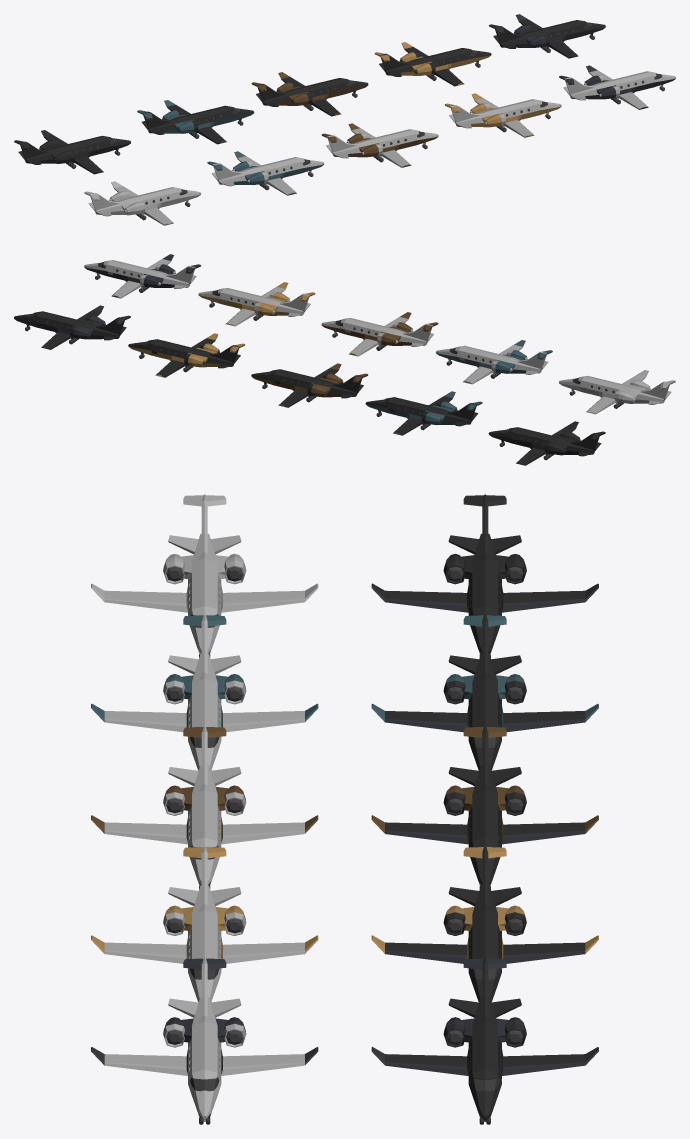
The model's file is LearJet 89.fbx.
The picture shows the model from 3 angles, top to bottom: view 1: azimuth 30°, elevation 25°; view 2: azimuth 150°, elevation 25°; view 3: azimuth 270°, elevation 25°; orthographic projection. The views are drawn at different scales.
Visible parts, largest first — view 1: LearJet Black, LearJet Brown, LearJet V Blue, LearJet Yellow, LearJet V, LearJet V Brown, LearJet, LearJet V Yellow, LearJet Blue, LearJet V black; view 2: LearJet V black, LearJet Blue, LearJet V Brown, LearJet V Yellow, LearJet, LearJet Brown, LearJet V, LearJet Yellow, LearJet V Blue, LearJet Black; view 3: LearJet Black, LearJet V black, LearJet, LearJet V, LearJet V Brown, LearJet Brown, LearJet V Yellow, LearJet Yellow, LearJet Blue, LearJet V Blue.
Part boxes in pixels (bbox=[...]): LearJet Black: bbox=[559, 65, 675, 109]; LearJet Brown: bbox=[321, 123, 438, 167]; LearJet V Blue: bbox=[137, 100, 254, 144]; LearJet Yellow: bbox=[444, 93, 561, 137]; LearJet V: bbox=[14, 130, 130, 174]; LearJet V Brown: bbox=[251, 72, 368, 116]; LearJet: bbox=[84, 181, 201, 225]; LearJet V Yellow: bbox=[374, 42, 491, 86]; LearJet Blue: bbox=[207, 151, 324, 195]; LearJet V black: bbox=[489, 14, 605, 58]; LearJet V black: bbox=[14, 305, 130, 349]; LearJet Blue: bbox=[435, 340, 552, 384]; LearJet V Brown: bbox=[251, 363, 368, 407]; LearJet V Yellow: bbox=[128, 333, 245, 377]; LearJet: bbox=[559, 370, 675, 414]; LearJet Brown: bbox=[321, 312, 438, 356]; LearJet V: bbox=[488, 421, 605, 465]; LearJet Yellow: bbox=[198, 282, 315, 326]; LearJet V Blue: bbox=[365, 391, 482, 435]; LearJet Black: bbox=[84, 254, 200, 298]; LearJet Black: bbox=[91, 957, 318, 1121]; LearJet V black: bbox=[371, 957, 598, 1121]; LearJet: bbox=[91, 494, 318, 653]; LearJet V: bbox=[371, 494, 598, 653]; LearJet V Brown: bbox=[371, 726, 598, 885]; LearJet Brown: bbox=[91, 726, 318, 885]; LearJet V Yellow: bbox=[371, 846, 598, 1002]; LearJet Yellow: bbox=[91, 846, 318, 1002]; LearJet Blue: bbox=[91, 614, 318, 770]; LearJet V Blue: bbox=[371, 614, 598, 770].
Bounding box in the file's own units: 66.71 × 3.9 × 25.01.
